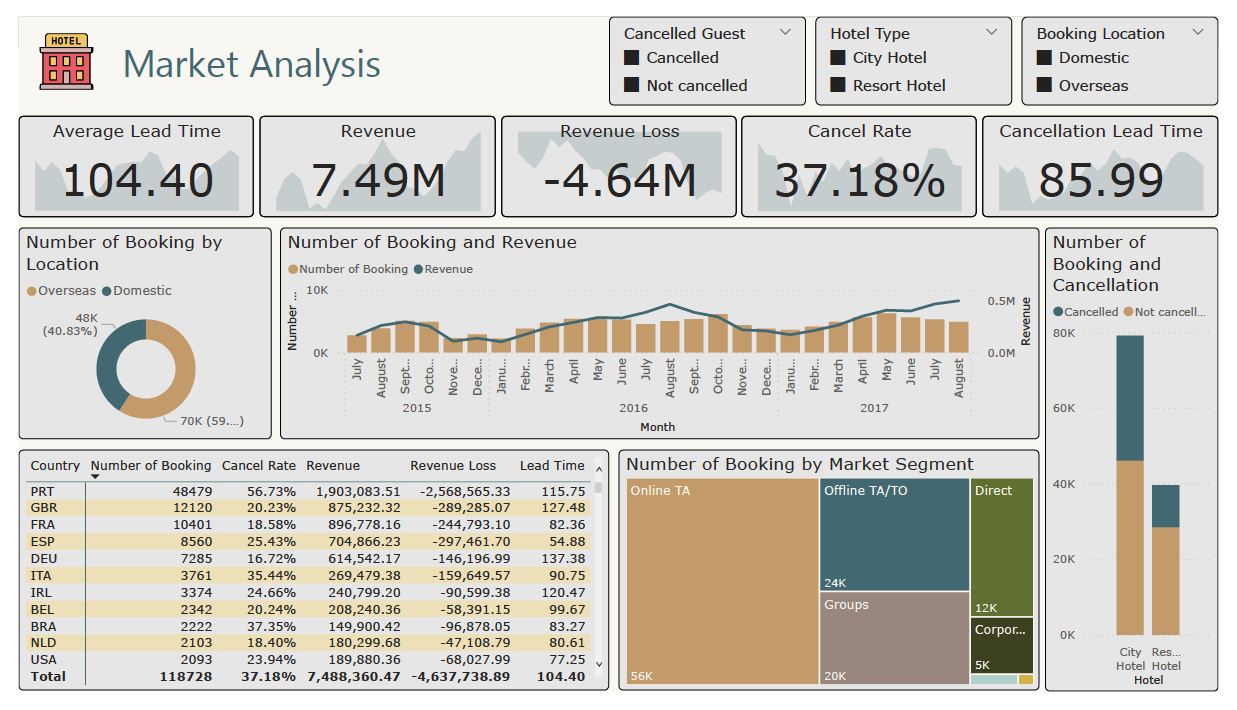

What the dashboard file says about the page in this screenshot:
{"tool":"powerbi","page":{"name":"Market Analysis","canvas":[1280,720],"ordinal":0},"visuals":[{"type":"treemap","title":"Number of Booking by Market Segment","fields":{"Group":["hotel_booking_cleaned.market_segment"],"Values":["hotel_booking_cleaned.booking_count"]},"box":[640,461.7,449.2,257.5],"z":0},{"type":"pivotTable","fields":{"Rows":["hotel_booking_cleaned.country"],"Values":["hotel_booking_cleaned.booking_count","hotel_booking_cleaned.cancel_rate","hotel_booking_cleaned.revenue","hotel_booking_cleaned.revenue_loss","hotel_booking_cleaned.avg_lead_time"]},"box":[0,461.7,630,257.5],"z":1000},{"type":"lineClusteredColumnComboChart","title":"Number of Booking and Revenue","fields":{"Category":["hotel_booking_cleaned.arrival_date.Variation.Date Hierarchy.Year","hotel_booking_cleaned.arrival_date.Variation.Date Hierarchy.Month"],"Y":["hotel_booking_cleaned.booking_count"],"Y2":["measure_groups.revenue"]},"box":[278.7,225.3,810.7,226],"z":2000},{"type":"columnChart","title":"Number of Booking and Cancellation","fields":{"Category":["hotel_booking_cleaned.hotel"],"Y":["hotel_booking_cleaned.booking_count"],"Series":["hotel_booking_cleaned.cancelled_guest"]},"box":[1095,225,185,495],"z":3000},{"type":"areaChart","fields":{"Y":["measure_groups.revenue_loss"],"Category":["hotel_booking_cleaned.arrival_date.Variation.Date Hierarchy.Year","hotel_booking_cleaned.arrival_date.Variation.Date Hierarchy.Month"]},"box":[514.9,105.9,251.3,108.4],"z":4000},{"type":"areaChart","fields":{"Y":["measure_groups.avg_lead_time"],"Category":["hotel_booking_cleaned.arrival_date.Variation.Date Hierarchy.Year","hotel_booking_cleaned.arrival_date.Variation.Date Hierarchy.Month"]},"box":[0,105.9,251.3,108.4],"z":5000},{"type":"areaChart","fields":{"Category":["hotel_booking_cleaned.arrival_date.Variation.Date Hierarchy.Year","hotel_booking_cleaned.arrival_date.Variation.Date Hierarchy.Month"],"Y":["measure_groups.cancel_rate"]},"box":[771.1,105.9,251.3,108.4],"z":6000},{"type":"areaChart","fields":{"Category":["hotel_booking_cleaned.arrival_date.Variation.Date Hierarchy.Year","hotel_booking_cleaned.arrival_date.Variation.Date Hierarchy.Month"],"Y":["Avg(hotel_booking_cleaned.canceled_days_before)"]},"box":[1028.5,105.9,251.3,108.4],"z":7000},{"type":"card","title":"Average Lead Time","fields":{"Values":["measure_groups.avg_lead_time"]},"box":[0,105.9,251.3,108.4],"z":8000},{"type":"slicer","fields":{"Values":["hotel_booking_cleaned.booking_location"]},"box":[1070,0,209.7,95.4],"z":9000},{"type":"areaChart","fields":{"Y":["measure_groups.revenue"],"Category":["hotel_booking_cleaned.arrival_date.Variation.Date Hierarchy.Year","hotel_booking_cleaned.arrival_date.Variation.Date Hierarchy.Month"]},"box":[257.4,105.9,251.3,108.4],"z":10000},{"type":"card","title":"Cancel Rate","fields":{"Values":["measure_groups.cancel_rate"]},"box":[771.1,105.9,251.3,108.4],"z":11000},{"type":"shape","box":[0,0,394.2,96.1],"z":12000},{"type":"card","title":"Revenue Loss","fields":{"Values":["measure_groups.revenue_loss"]},"box":[514.9,105.9,251.3,108.4],"z":13000},{"type":"card","title":"Revenue","fields":{"Values":["measure_groups.revenue"]},"box":[257.4,105.9,251.3,108.4],"z":14000},{"type":"image","box":[16,12.3,70.2,70.2],"z":15000},{"type":"slicer","fields":{"Values":["hotel_booking_cleaned.hotel"]},"box":[850.2,0,209.7,95.4],"z":16000},{"type":"card","title":"Cancellation Lead Time","fields":{"Values":["Avg(hotel_booking_cleaned.canceled_days_before)"]},"box":[1028.5,105.9,251.3,108.4],"z":17000},{"type":"slicer","fields":{"Values":["hotel_booking_cleaned.cancelled_guest"]},"box":[630.5,0,209.7,95.4],"z":18000},{"type":"donutChart","title":"Number of Booking by Location","fields":{"Category":["hotel_booking_cleaned.booking_location"],"Y":["measure_groups.booking_count"]},"box":[0,224.8,270,226.1],"z":19000}]}

Visuals, with their boxes in screenshot pixels (x1, y1, x2, y2), scaled from the page's 1280x720 canvas onto the 1237x710 screenshot:
"Number of Booking by Market Segment" treemap: 618 455 1053 709
pivotTable - hotel_booking_cleaned.country x hotel_booking_cleaned.booking_count: 0 455 609 709
"Number of Booking and Revenue" lineClusteredColumnComboChart: 269 222 1053 445
"Number of Booking and Cancellation" columnChart: 1058 222 1236 709
areaChart - measure_groups.revenue_loss x hotel_booking_cleaned.arrival_date.Variation.Date Hierarchy.Year: 498 104 740 211
areaChart - measure_groups.avg_lead_time x hotel_booking_cleaned.arrival_date.Variation.Date Hierarchy.Year: 0 104 243 211
areaChart - hotel_booking_cleaned.arrival_date.Variation.Date Hierarchy.Year x hotel_booking_cleaned.arrival_date.Variation.Date Hierarchy.Month: 745 104 988 211
areaChart - hotel_booking_cleaned.arrival_date.Variation.Date Hierarchy.Year x hotel_booking_cleaned.arrival_date.Variation.Date Hierarchy.Month: 994 104 1236 211
"Average Lead Time" card: 0 104 243 211
slicer - hotel_booking_cleaned.booking_location: 1034 0 1236 94
areaChart - measure_groups.revenue x hotel_booking_cleaned.arrival_date.Variation.Date Hierarchy.Year: 249 104 492 211
"Cancel Rate" card: 745 104 988 211
shape: 0 0 381 95
"Revenue Loss" card: 498 104 740 211
"Revenue" card: 249 104 492 211
image: 15 12 83 81
slicer - hotel_booking_cleaned.hotel: 822 0 1024 94
"Cancellation Lead Time" card: 994 104 1236 211
slicer - hotel_booking_cleaned.cancelled_guest: 609 0 812 94
"Number of Booking by Location" donutChart: 0 222 261 445
